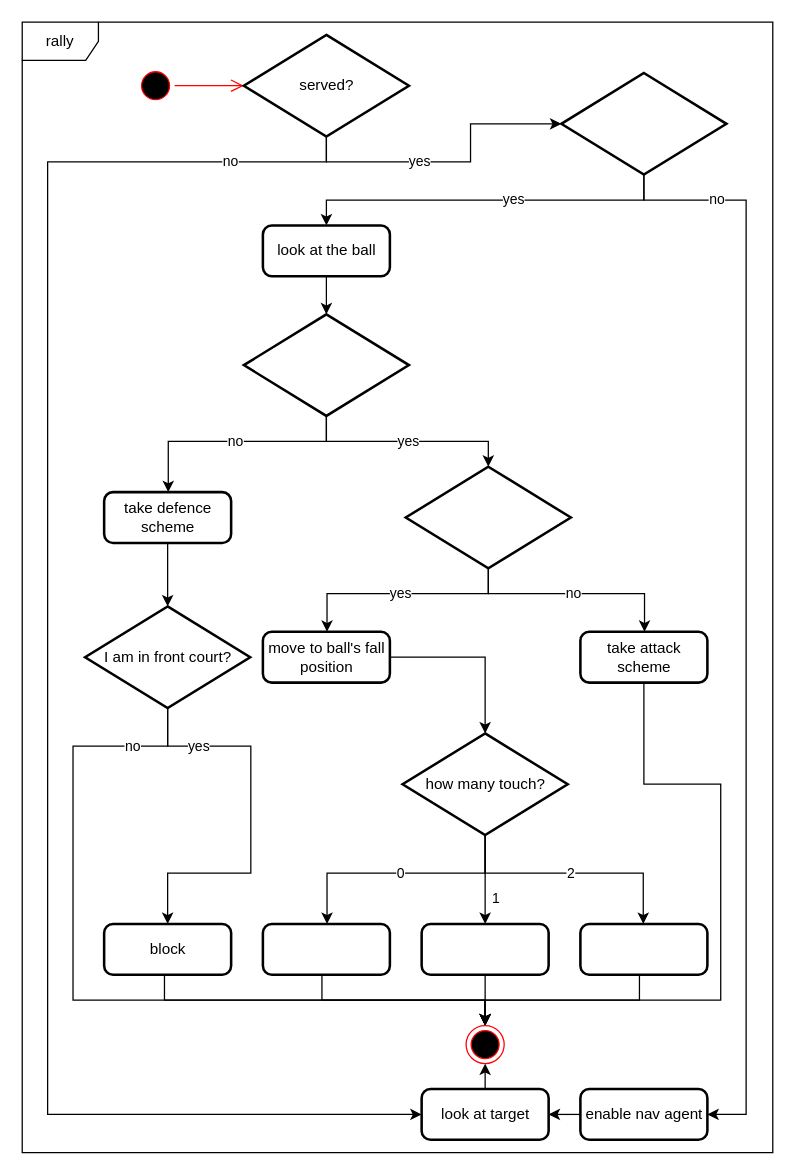
Image size: 795x1175. Some labels were removed from this diagram. Each missing label, with the centre of its shape:
attack: point (643, 948)
ball flying to my position?: point (488, 517)
ball is flying?: point (643, 123)
ball is in my courts?: point (326, 364)
pass: point (326, 948)
set: point (484, 948)
